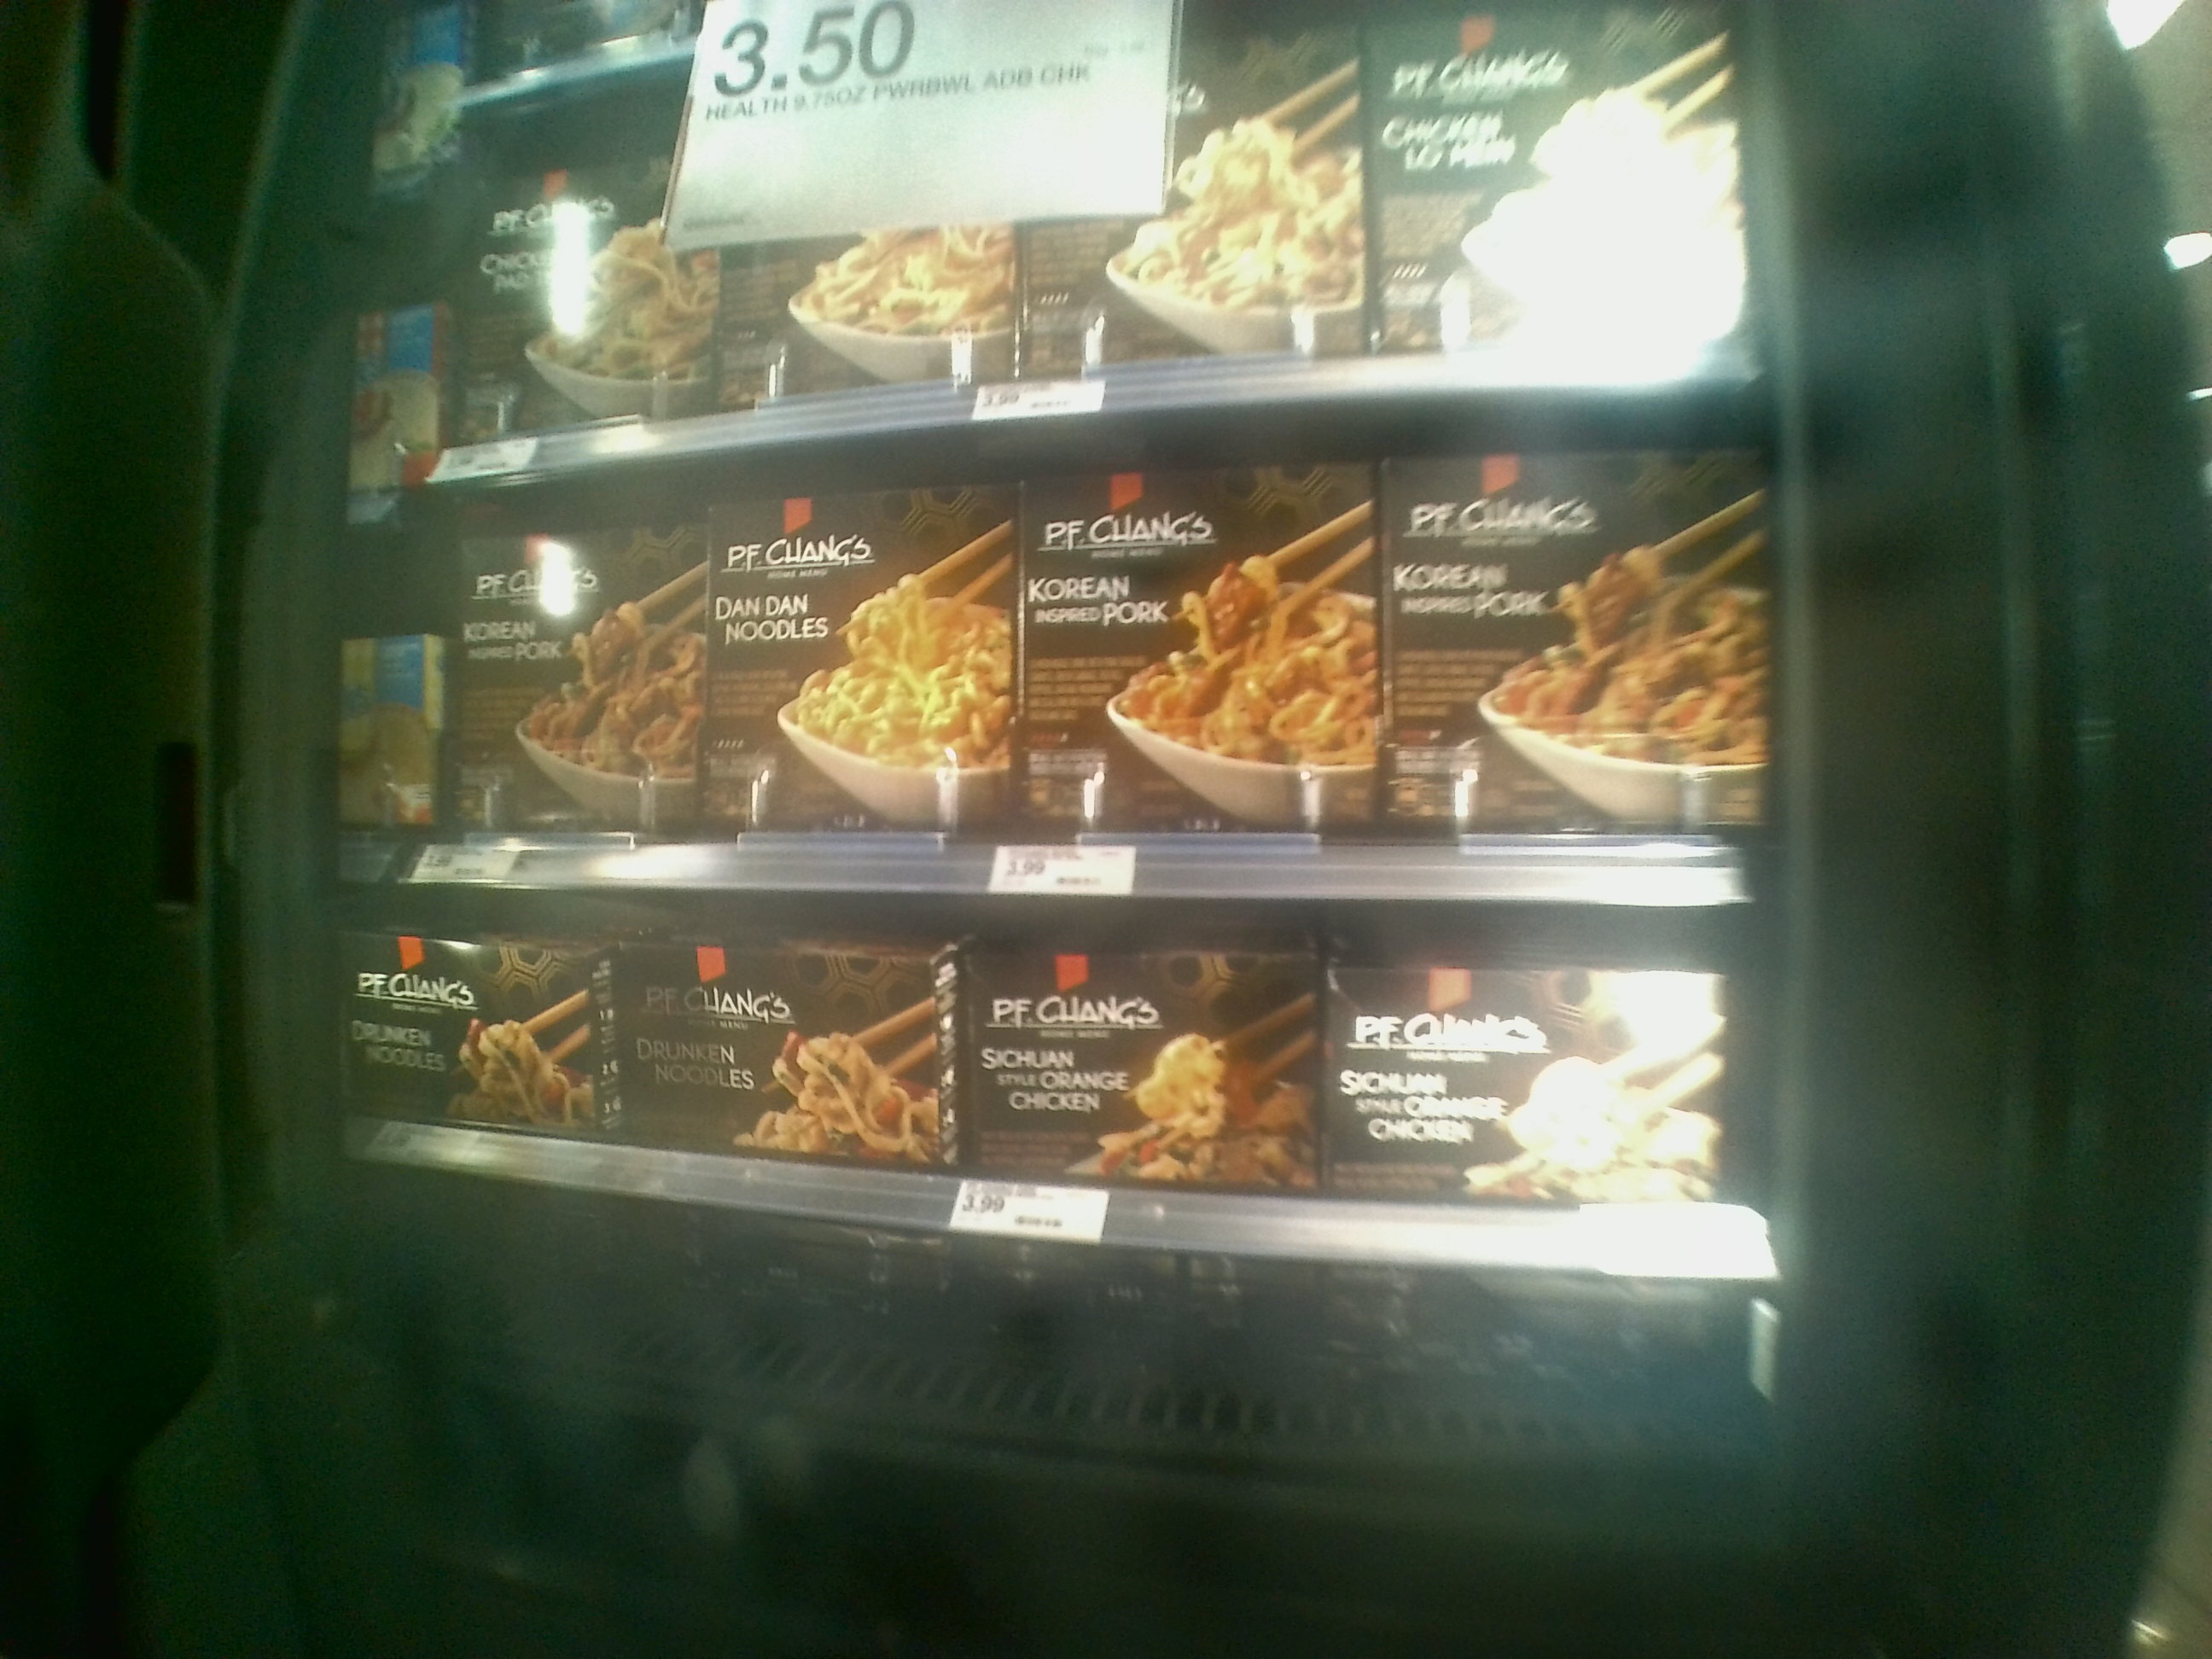shelf: (361, 870, 1787, 1293)
